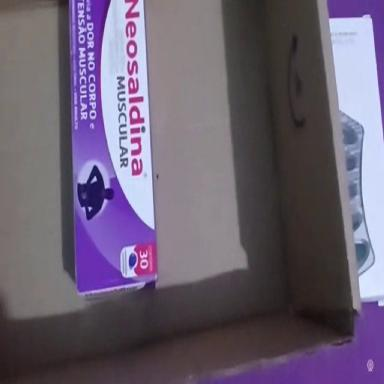Medicamento: (70, 0, 157, 294)
